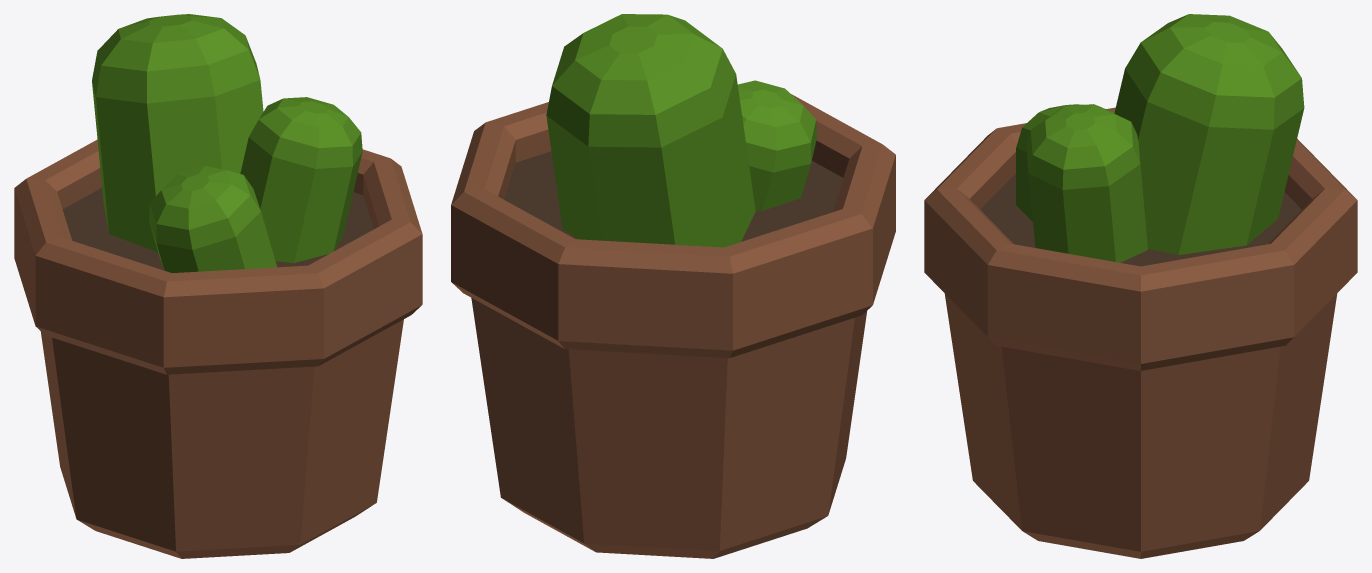
File: Cactus.fbx
3 views of the same model, side by side, from view 1: azimuth 30°, elevation 25°; view 2: azimuth 150°, elevation 25°; view 3: azimuth 270°, elevation 25° (orthographic). The views are drawn at different scales.
Visible parts, largest first — view 1: Cactus; view 2: Cactus; view 3: Cactus.
Part boxes in pixels (left/top/right/bottom): Cactus: left=14, top=14, right=422, bottom=558; Cactus: left=451, top=14, right=895, bottom=558; Cactus: left=924, top=14, right=1357, bottom=558.
Bounding box in the file's own units: 0.2815 × 0.3345 × 0.2815.
Materials: 1 (1 with a texture image).
